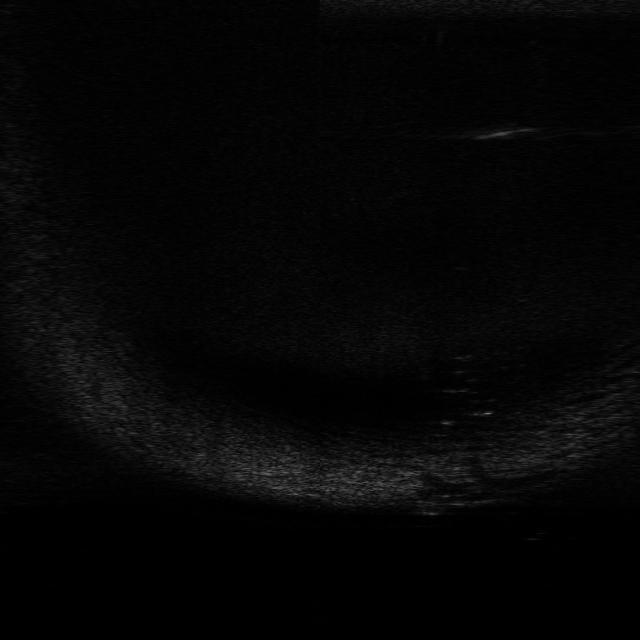plane: (408, 491, 511, 518)
